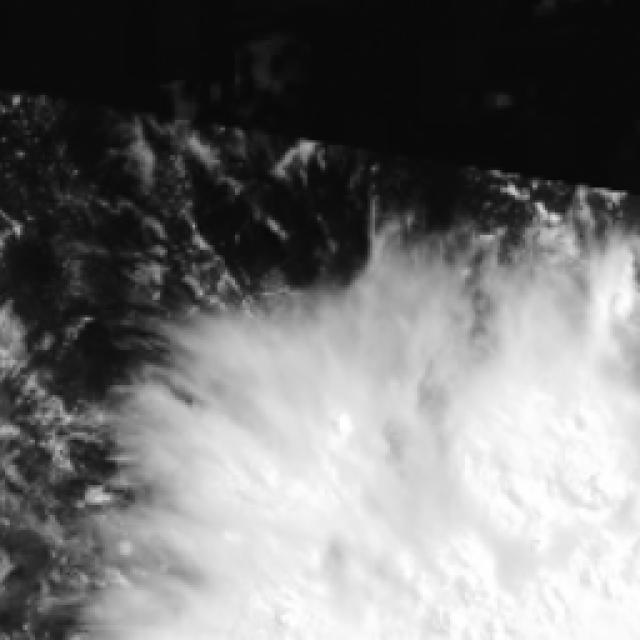CB: (217, 337, 640, 640)
